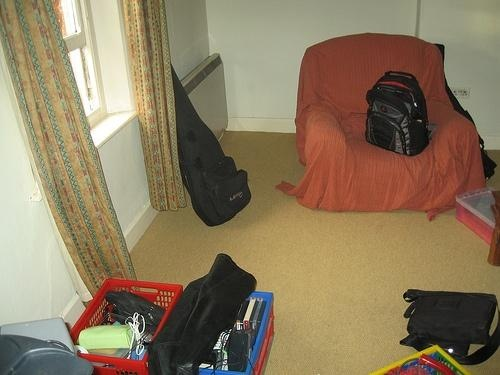chair: (295, 34, 480, 213)
